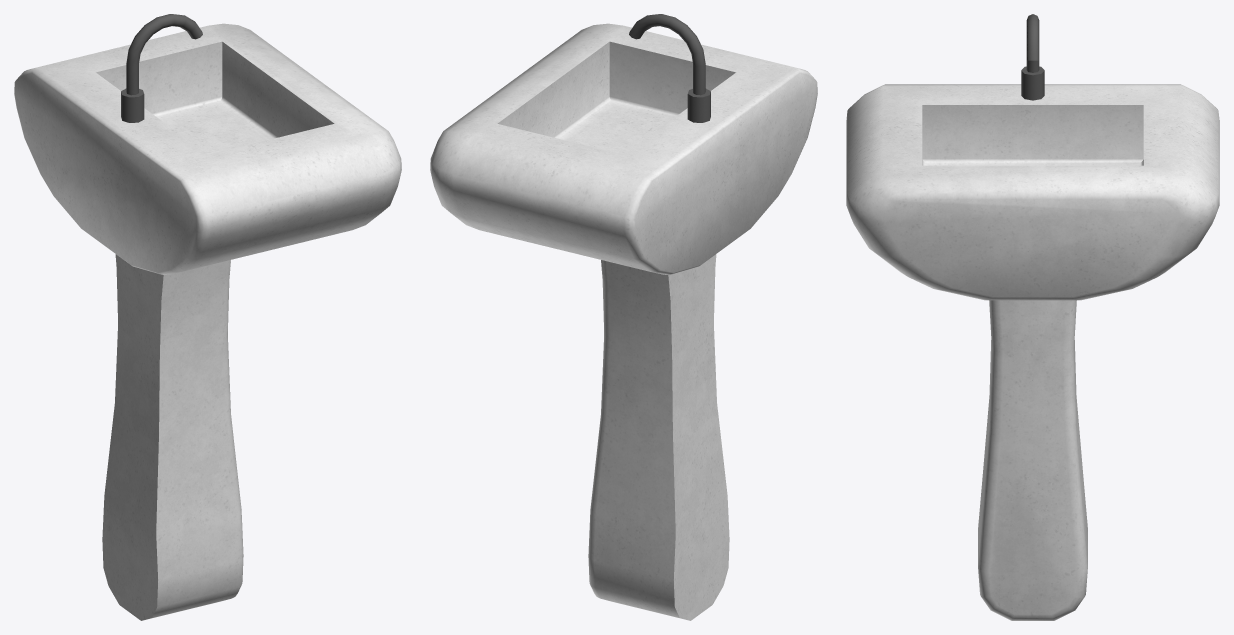
File: sink.obj
3 renders of one model, left to right at view 1: azimuth 30°, elevation 25°; view 2: azimuth 150°, elevation 25°; view 3: azimuth 270°, elevation 25°, orthographic.
Parts seen in each view (by area): view 1: sink; view 2: sink; view 3: sink.
Boxes of the visible parts, x1,y1,x2,y2 form: sink: [14, 14, 401, 620]; sink: [430, 14, 817, 620]; sink: [846, 14, 1219, 620].
Size of the model in its own units: 0.4695 by 1.22 by 0.7119.
1 material, 1 textured.
